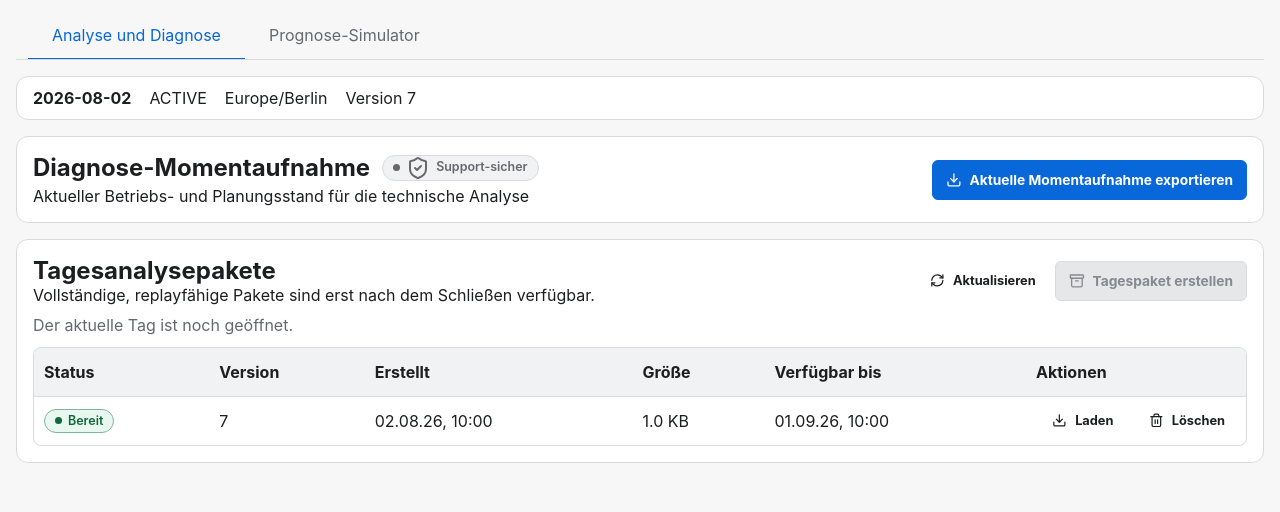
Scenario: analysis workspace archive lifecycle › V1120-DIA-010 reports a successful snapshot download without moving the action
Click the button "Aktuelle Momentaufnahme exportieren": click(1089, 180) [932,160,1247,200]
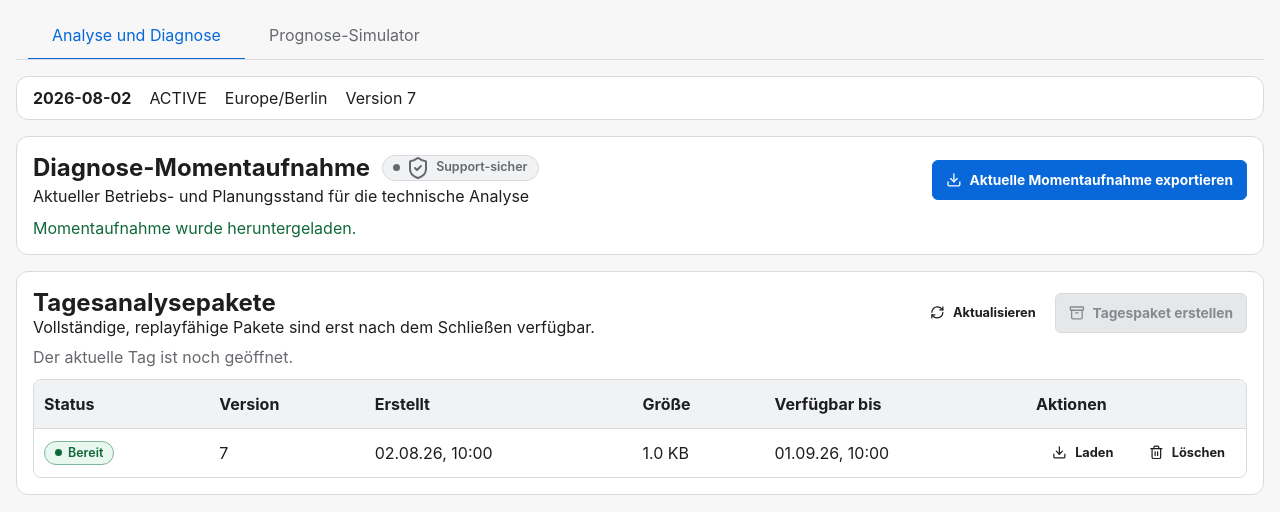
Check: the number of elements with class "analysis-snapshot-status" is 1, box [33,218,356,238]
